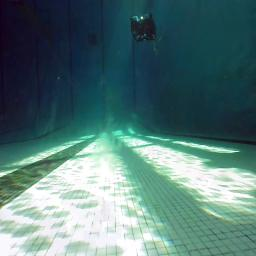Full: (88, 39, 98, 46)
front: (130, 15, 157, 42)
